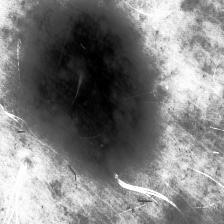Benign Marking or Mole: (24, 9, 147, 172)
